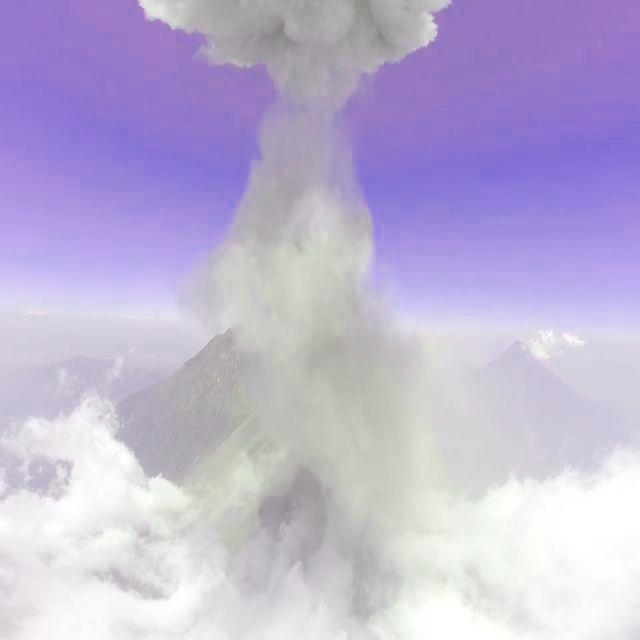Plume: (200, 156, 423, 507), (122, 2, 448, 108)
